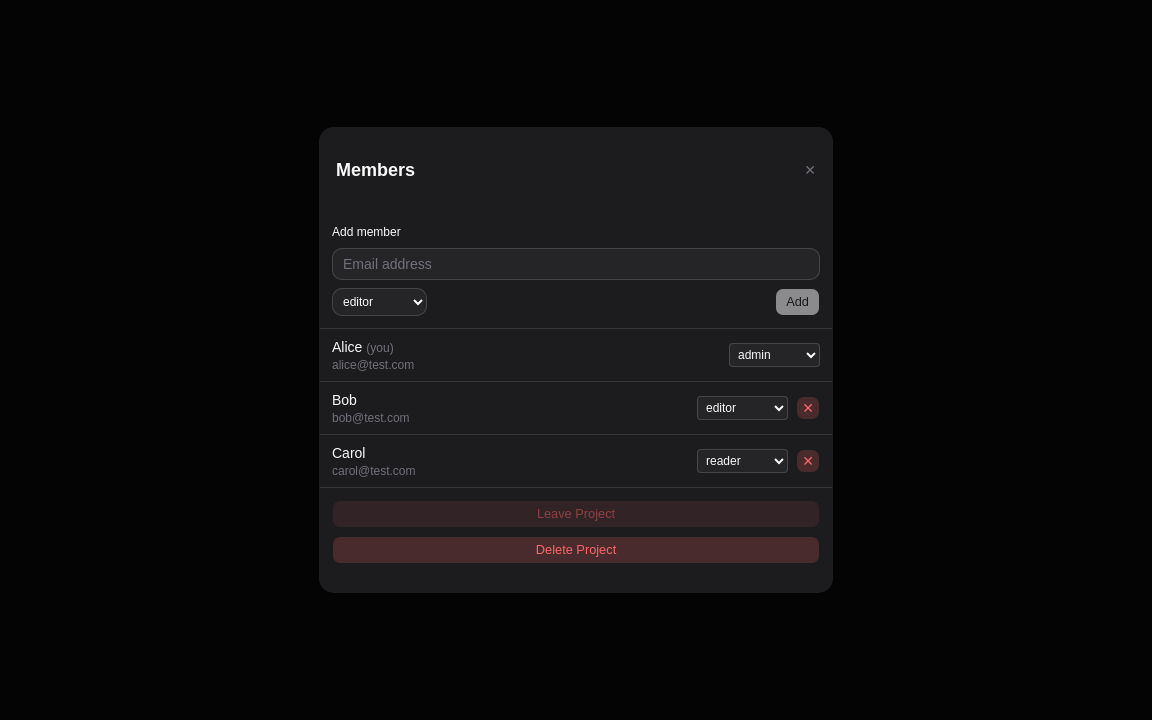
Test case: MembersPanel › add member: success appends to list
Check: the text "Alice" is shown, box [332, 339, 362, 355]
In the field with placeholder "Email address": point(576, 264) [332, 248, 820, 280], type "dave@test.com"
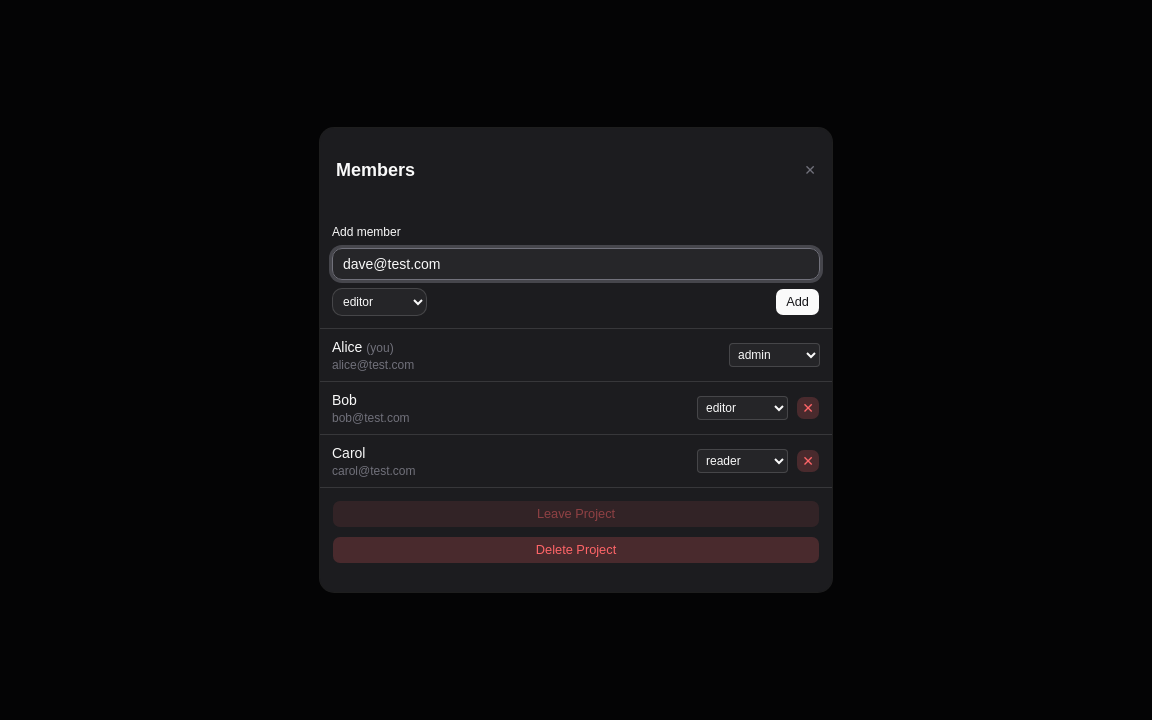
Click the button "Add": point(798, 302) [775, 288, 820, 316]
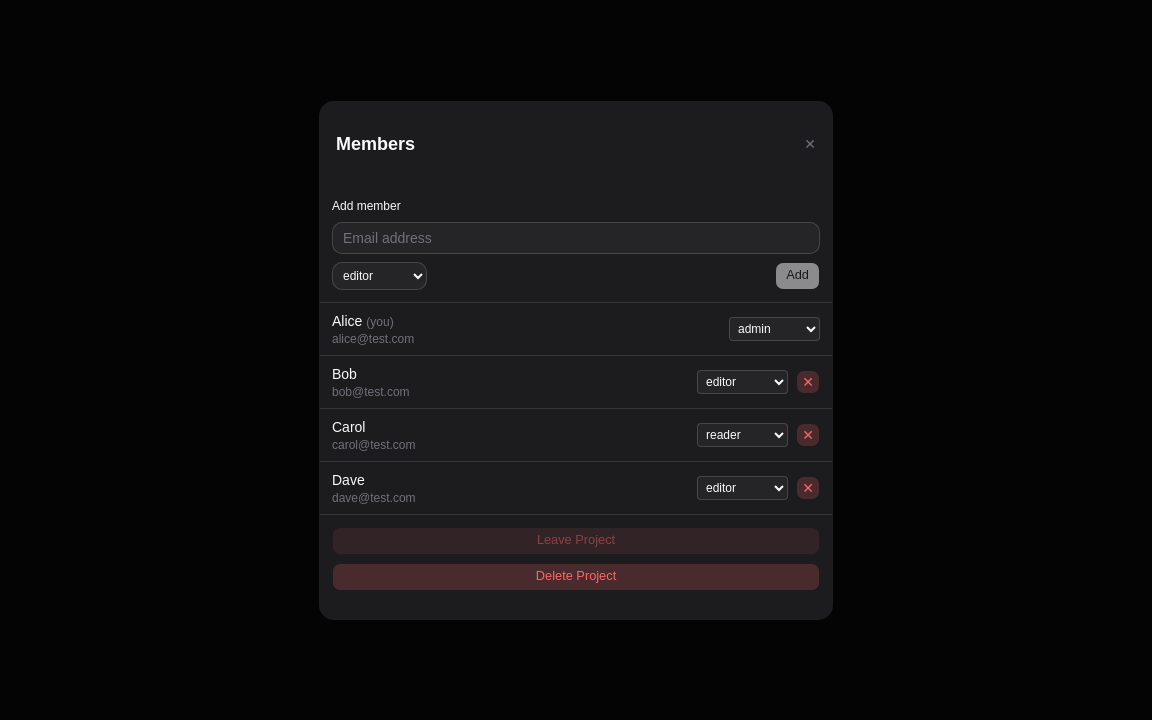
Check: the text "Dave" is shown, box [332, 472, 365, 488]
